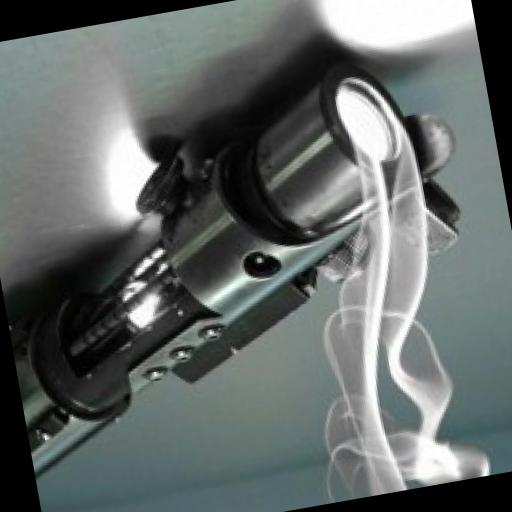lightsaber: (0, 36, 500, 485)
